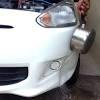front-bumper-dent: (0, 50, 80, 97)
